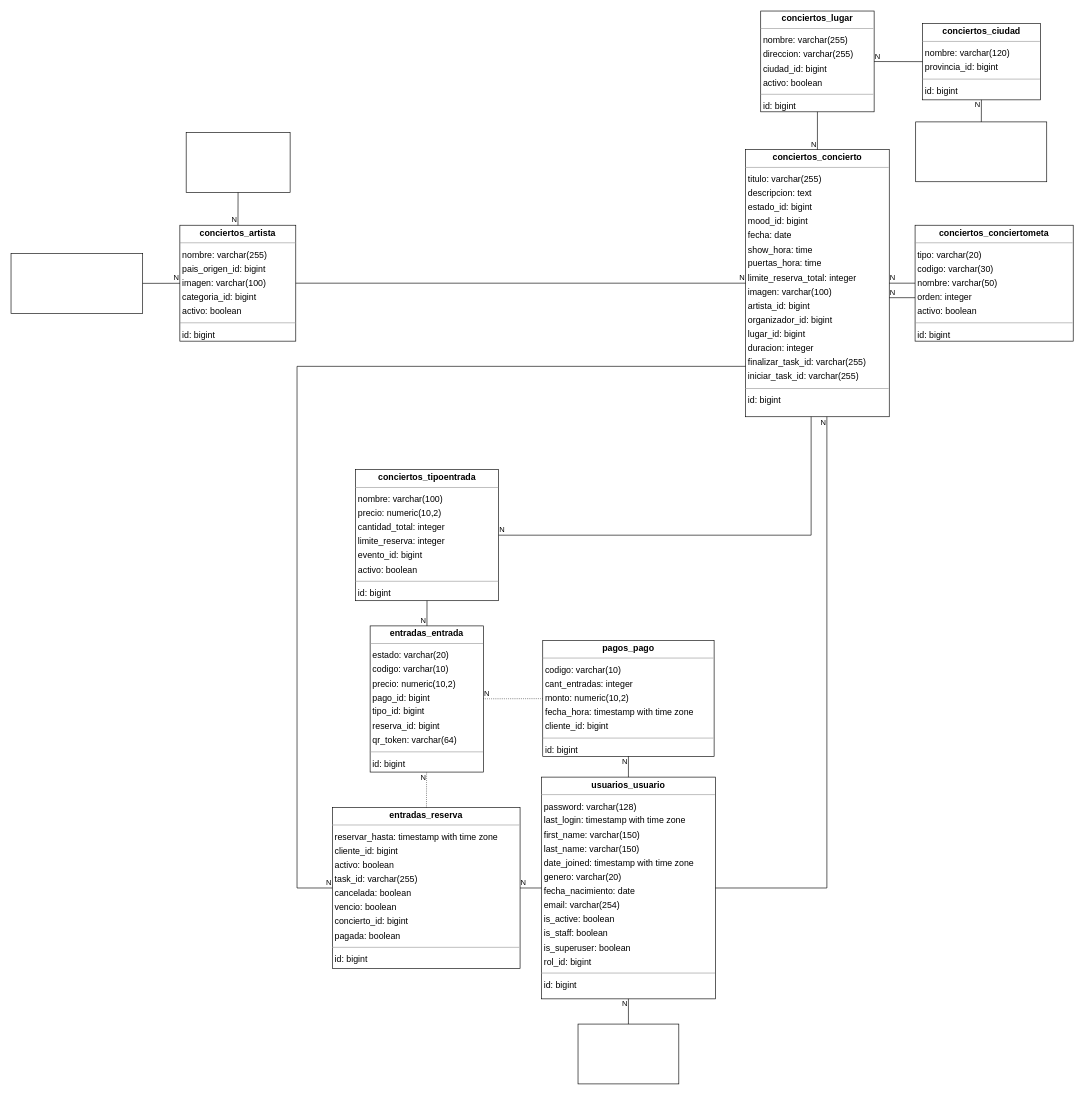
This 1084x1095 diagram has some shape labels left out. Here are the shapes that lost their labels. From the top down, the centre of each, then its label:
At (238,162): "conciertos_pais nombre: varchar(50) id: bigint".
At (981,151): "conciertos_provincia nombre: varchar(100) id: bigint".
At (76,283): "conciertos_categoria nombre: varchar(50) id: bigint".
At (628,1053): "usuarios_rol nombre: varchar(20) id: bigint".
